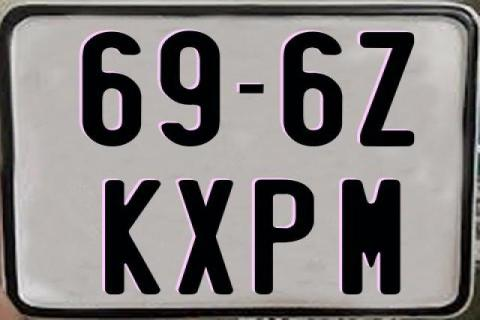0: (280, 30, 346, 146), (157, 28, 219, 146), (81, 29, 144, 145)
K: (104, 179, 163, 297)
M: (342, 178, 401, 298)
P: (253, 180, 315, 296)
X: (177, 178, 232, 294)
Z: (357, 32, 415, 150)
